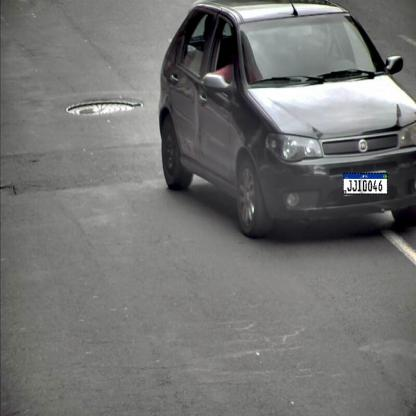PlacaM: (343, 172, 388, 194)
